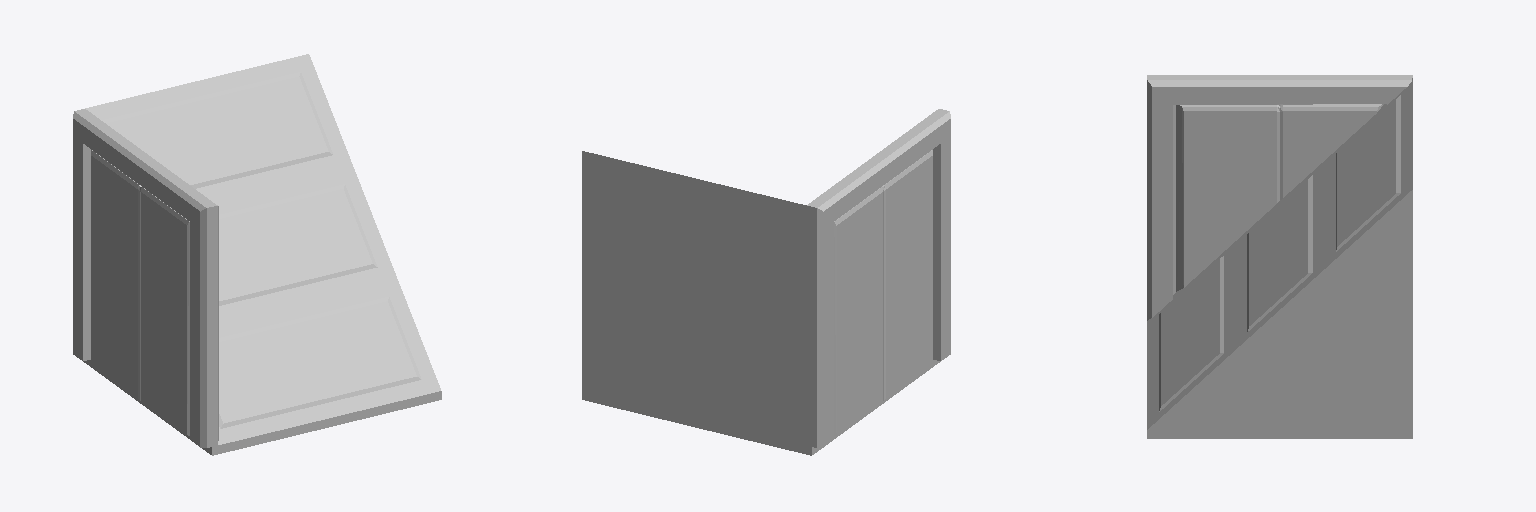
File: Ramp_Wall_Orange_L.obj
3 views of the same model, side by side, from view 1: azimuth 30°, elevation 25°; view 2: azimuth 150°, elevation 25°; view 3: azimuth 270°, elevation 25° (orthographic).
Visible parts, largest first — view 1: Ramp_Wall_Orange_L; view 2: Ramp_Wall_Orange_L; view 3: Ramp_Wall_Orange_L.
Part boxes in pixels (bbox=[...]): Ramp_Wall_Orange_L: bbox=[73, 54, 441, 455]; Ramp_Wall_Orange_L: bbox=[582, 109, 950, 455]; Ramp_Wall_Orange_L: bbox=[1147, 75, 1412, 438].
Bounding box in the file's own units: 4.16 × 4.15 × 4.